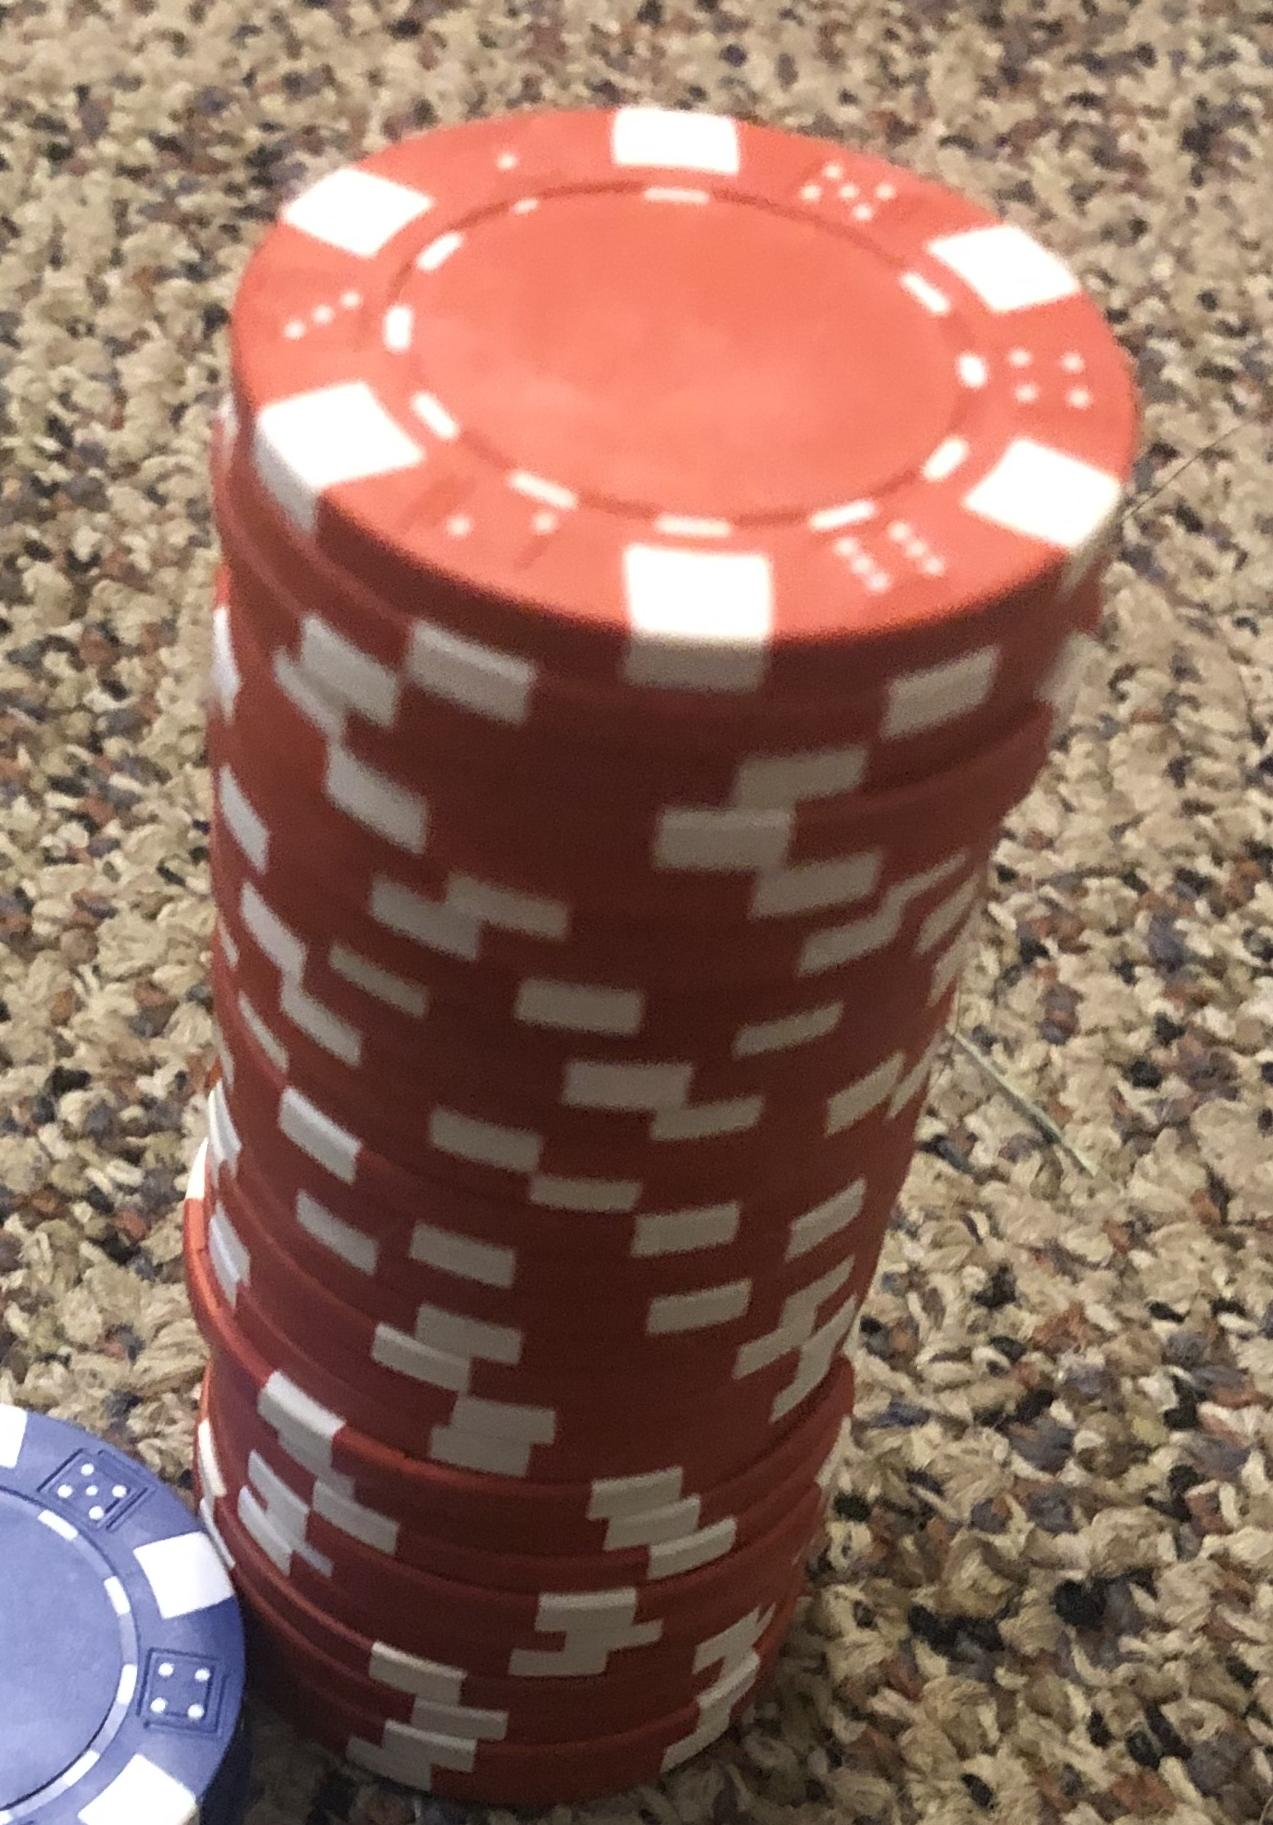Chip: (1, 1, 1273, 1825)
